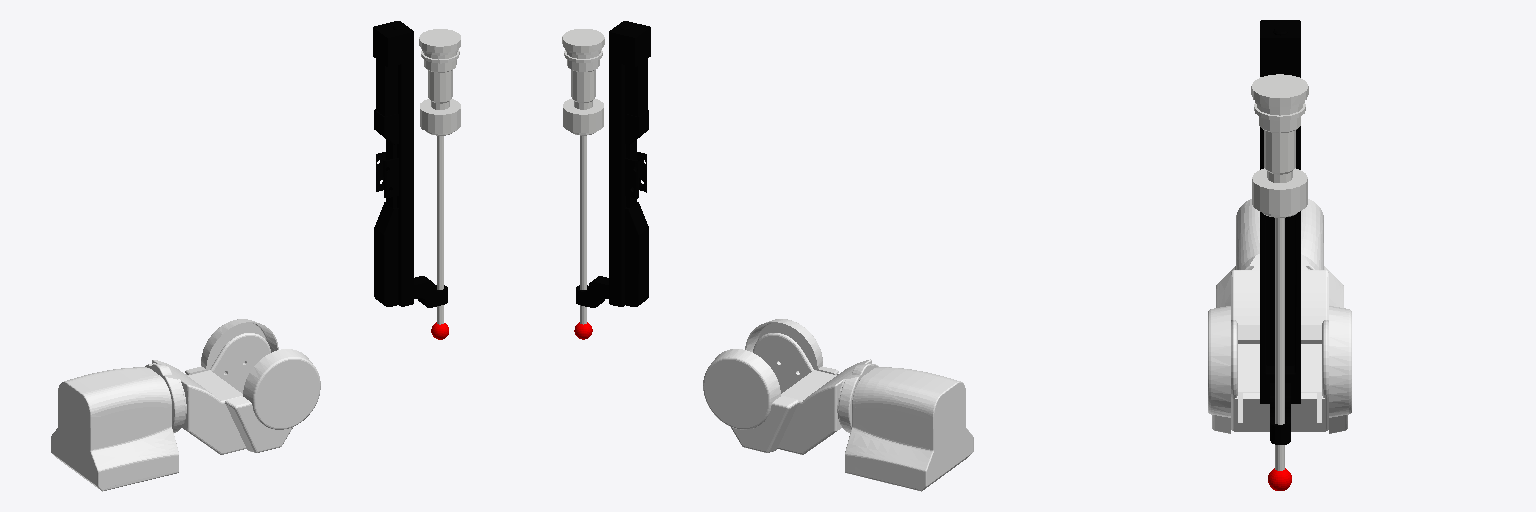
robot.urdf — ecm:
<?xml version="1.0" encoding="utf-8"?>
<!-- =================================================================================== -->
<!-- |    This document was autogenerated by xacro from ecm_launch.urdf.xacro          | -->
<!-- |    EDITING THIS FILE BY HAND IS NOT RECOMMENDED                                 | -->
<!-- =================================================================================== -->
<robot name="ecm">
    <material name="white">
        <color rgba="0.95 0.95 0.95 1"/>
    </material>
    <material name="grey">
        <color rgba="0.80 0.80 0.80 1"/>
    </material>
    <material name="silver">
        <color rgba="0.8941 0.8941 0.8863 1"/>
    </material>
    <material name="black">
        <color rgba="0.0314 0.0314 0.0314 1"/>
    </material>
    <material name="red_translucent">
        <color rgba="1 0 0 0.5"/>
    </material>

    <!--  <link name="world"/>-->

    <link name="ecm_base_link">
        <inertial>
            <origin rpy="0 0 0" xyz="-0.0048 0 0.0670"/>
            <mass value="2.6363"/>
            <inertia ixx="0" ixy="0" ixz="0" iyy="0" iyz="0" izz="0"/>
        </inertial>
        <visual>
            <origin rpy="0 0 0" xyz="0 0 0"/>
            <geometry>
                <mesh filename="meshes/visual/base_link.obj"/>
            </geometry>
            <material name="white"/>
        </visual>
        <!--    <collision>-->
        <!--      <origin rpy="0 0 0" xyz="0 0 0"/>-->
        <!--      <geometry>-->
        <!--        <mesh filename="meshes/collision/base_link.STL"/>-->
        <!--      </geometry>-->
        <!--    </collision>-->
    </link>

    <link name="ecm_yaw_link">
        <inertial>
            <!-- 0.5394-0.1067 -->
            <origin rpy="3.14159265359 0 1.57079632679" xyz="-0.0290 0 0.4327"/>
            <mass value="6.4168"/>
            <inertia ixx="0.00086598" ixy="0" ixz="0" iyy="0.0016561" iyz="-0.00015825" izz="0.00085001"/>
        </inertial>
        <visual>
            <origin rpy="3.14159265359 0 1.57079632679" xyz="0 0 0.5394"/>
            <geometry>
                <mesh filename="meshes/visual/yaw_link.obj"/>
            </geometry>
            <material name="white"/>
        </visual>
        <!--    <collision>-->
        <!--      <origin rpy="3.14159265359 0 1.57079632679" xyz="0 0 0.5394"/>-->
        <!--      <geometry>-->
        <!--        <mesh filename="meshes/collision/yaw_link.STL"/>-->
        <!--      </geometry>-->
        <!--    </collision>-->
    </link>

    <joint name="ecm_yaw_joint" type="revolute">
        <!-- by jqxu -->
        <origin rpy="0 -1.57079632679 0" xyz="0.6126 0 0.1016"/>
        <parent link="ecm_base_link"/>
        <child link="ecm_yaw_link"/>
        <axis xyz="0 0 1"/>
        <limit effort="100" lower="-1.57079632679" upper="1.57079632679" velocity="2.1"/>
    </joint>

    <link name="ecm_pitch_end_link">
        <inertial>
            <!-- 0.1030-0.0181 0.2868+0.0271 -->
            <origin rpy="0 0 3.14159265359" xyz="0.0849 0.3139 0"/>
            <mass value="2.0321"/>
            <inertia ixx="0" ixy="0" ixz="0" iyy="0" iyz="0" izz="0"/>
        </inertial>
        <visual>
            <origin rpy="0 0 3.14159265359" xyz="0.1030 0.2868 0"/>
            <geometry>
                <mesh filename="meshes/visual/pitch_end_link.STL"/>
            </geometry>
            <material name="black"/>
        </visual>
        <collision>
            <origin rpy="0 0 3.14159265359" xyz="0.1030 0.2868 0"/>
            <geometry>
                <mesh filename="meshes/collision/pitch_end_link.STL"/>
            </geometry>
        </collision>
    </link>

    <joint name="ecm_pitch_end_joint" type="revolute">
        <origin rpy="-1.57079632679 -1.57079632679 0" xyz="0 0 0"/>
        <parent link="ecm_yaw_link"/>
        <child link="ecm_pitch_end_link"/>
        <axis xyz="0 0 1"/>
        <limit effort="100" lower="-0.784" upper="1.158" velocity="2.1"/>
    </joint>

    <link name="ecm_main_insertion_link">
        <inertial>
            <!-- 0.0610-0.0086 0  0.0092-0.0479 -->
            <origin rpy="0 0 3.14159265359" xyz="0.0524 0 -0.0387"/>
            <mass value="0.2311"/>
            <inertia ixx="0" ixy="0" ixz="0" iyy="0" iyz="0" izz="0"/>
        </inertial>
        <visual>
            <origin rpy="0 0 3.14159265359" xyz="0.0610 0 0.0092"/>
            <geometry>
                <mesh filename="meshes/visual/main_insertion_link.STL"/>
            </geometry>
            <material name="black"/>
        </visual>
        <collision>
            <origin rpy="0 0 3.14159265359" xyz="0.0610 0 0.0092"/>
            <geometry>
                <mesh filename="meshes/collision/main_insertion_link.STL"/>
            </geometry>
        </collision>
    </link>

    <joint name="ecm_main_insertion_joint" type="prismatic">
        <origin rpy="1.57079632679 0 0" xyz="0 0.3822 0"/>
        <parent link="ecm_pitch_end_link"/>
        <child link="ecm_main_insertion_link"/>
        <axis xyz="0 0 1"/>
        <limit effort="50" lower="0" upper="0.254" velocity="10"/>
    </joint>

    <link name="ecm_tool_link">
        <inertial>
            <!-- -0.3737-0.1073 -->
            <origin rpy="0 0 3.14159265359" xyz="0 0 -0.4810"/>
            <mass value="1.9074"/>
            <inertia ixx="0" ixy="0" ixz="0" iyy="0" iyz="0" izz="0"/>
        </inertial>
        <visual>
            <origin rpy="0 0 3.14159265359" xyz="0 0 -0.3737"/>
            <geometry>
                <mesh filename="meshes/visual/tool_link_1.obj"/>
            </geometry>
            <material name="silver"/>
        </visual>
        <collision>
            <origin rpy="0 0 3.14159265359" xyz="0 0 -0.3737"/>
            <geometry>
                <mesh filename="meshes/collision/tool_link.STL"/>
            </geometry>
        </collision>
    </link>

    <joint name="ecm_tool_joint" type="revolute">
        <origin rpy="0 0 0" xyz="0 0 0.3829"/>
        <parent link="ecm_main_insertion_link"/>
        <child link="ecm_tool_link"/>
        <axis xyz="0 0 1"/>
        <limit effort="100" lower="-1.57079632679" upper="1.57079632679" velocity="2.1"/>
    </joint>

    <link name="ecm_end_link">
        <inertial>
            <origin rpy="0 0 0" xyz="0 0 0"/>
            <mass value="0"/>
            <inertia ixx="0" ixy="0" ixz="0" iyy="0" iyz="0" izz="0"/>
        </inertial>
    </link>

    <joint name="ecm_end_joint" type="fixed">
        <origin rpy="0 0 0" xyz="0 0 0"/>
        <parent link="ecm_tool_link"/>
        <child link="ecm_end_link"/>
        <axis xyz="0 0 0"/>
    </joint>

    <link name="ecm_tip_link">
        <inertial>
            <origin rpy="0 0 0" xyz="0 0 0"/>
            <mass value="0"/>
            <inertia ixx="0" ixy="0" ixz="0" iyy="0" iyz="0" izz="0"/>
        </inertial>
    </link>

    <joint name="ecm_tip_joint" type="fixed">
        <origin rpy="0 0 -1.57079632679" xyz="0 0 0.02"/>
        <parent link="ecm_tool_link"/>
        <child link="ecm_tip_link"/>
        <axis xyz="0 0 0"/>
    </joint>

    <link name="ecm_pitch_front_link">
        <inertial>
            <origin rpy="0 0 3.14159265359" xyz="0.0306 0.1358 0"/>
            <mass value="1.6069"/>
            <inertia ixx="0" ixy="0" ixz="0" iyy="0" iyz="0" izz="0"/>
        </inertial>
        <visual>
            <origin rpy="0 0 3.14159265359" xyz="0 0 0"/>
            <geometry>
                <mesh filename="meshes/visual/pitch_front_link.STL"/>
            </geometry>
            <material name="black"/>
        </visual>
        <!--    <collision>-->
        <!--      <origin rpy="0 0 3.14159265359" xyz="0 0 0"/>-->
        <!--      <geometry>-->
        <!--        <mesh filename="meshes/collision/pitch_front_link.STL"/>-->
        <!--      </geometry>-->
        <!--    </collision>-->
    </link>

    <joint name="ecm_pitch_front_joint" type="revolute">
        <origin rpy="-1.57079632679 -1.57079632679 0" xyz="0 0 0.3404"/>
        <parent link="ecm_yaw_link"/>
        <child link="ecm_pitch_front_link"/>
        <axis xyz="0 0 1"/>
        <limit effort="100" lower="-0.784" upper="1.158" velocity="2.1"/>
        <mimic joint="ecm_pitch_end_joint" multiplier="1"/>
    </joint>

    <link name="ecm_pitch_bottom_link">
        <inertial>
            <origin rpy="0 0 3.14159265359" xyz="-0.1459 0.0267 0"/>
            <mass value="0.3593"/>
            <inertia ixx="0.00023901" ixy="0.00022767" ixz="0" iyy="0.0030096" iyz="0" izz="0.0029617"/>
        </inertial>
        <visual>
            <origin rpy="0 0 3.14159265359" xyz="0 0 0"/>
            <geometry>
                <mesh filename="meshes/visual/pitch_bottom_link.STL"/>
            </geometry>
            <material name="black"/>
        </visual>
        <!--    <collision>-->
        <!--      <origin rpy="0 0 3.14159265359" xyz="0 0 0"/>-->
        <!--      <geometry>-->
        <!--        <mesh filename="meshes/collision/pitch_bottom_link.STL"/>-->
        <!--      </geometry>-->
        <!--    </collision>-->
    </link>

    <joint name="ecm_pitch_bottom_joint" type="revolute">
        <origin rpy="0 0 0" xyz="0.1030 0.2868 0"/>
        <parent link="ecm_pitch_front_link"/>
        <child link="ecm_pitch_bottom_link"/>
        <axis xyz="0 0 1"/>
        <limit effort="100" lower="-1.158" upper="0.784" velocity="2.1"/>
        <mimic joint="ecm_pitch_end_joint" multiplier="-1"/>
    </joint>

    <link name="ecm_pitch_top_link">
        <inertial>
            <origin rpy="0 0 3.14159265359" xyz="-0.1702 0 0"/>
            <mass value="0.4385"/>
            <inertia ixx="0" ixy="0" ixz="0" iyy="0" iyz="0" izz="0"/>
        </inertial>
        <visual>
            <origin rpy="0 0 3.14159265359" xyz="0 0 0"/>
            <geometry>
                <mesh filename="meshes/visual/pitch_top_link.STL"/>
            </geometry>
            <material name="black"/>
        </visual>
        <!--    <collision>-->
        <!--      <origin rpy="0 0 3.14159265359" xyz="0 0 0"/>-->
        <!--      <geometry>-->
        <!--        <mesh filename="meshes/collision/pitch_top_link.STL"/>-->
        <!--      </geometry>-->
        <!--    </collision>-->
    </link>

    <joint name="ecm_pitch_top_joint" type="revolute">
        <origin rpy="0 0 0" xyz="0.1085 0.3242 0"/>
        <parent link="ecm_pitch_front_link"/>
        <child link="ecm_pitch_top_link"/>
        <axis xyz="0 0 1"/>
        <limit effort="100" lower="-1.158" upper="0.784" velocity="2.1"/>
        <mimic joint="ecm_pitch_end_joint" multiplier="-1"/>
    </joint>

    <link name="ecm_pitch_back_link">
        <inertial>
            <origin rpy="0 0 3.14159265359" xyz="0.0329 0.1500 0"/>
            <mass value="0.4214"/>
            <inertia ixx="0" ixy="0" ixz="0" iyy="0" iyz="0" izz="0"/>
        </inertial>
        <visual>
            <origin rpy="0 0 3.14159265359" xyz="0 0 0"/>
            <geometry>
                <mesh filename="meshes/visual/pitch_back_link.STL"/>
            </geometry>
            <material name="black"/>
        </visual>
        <!--    <collision>-->
        <!--      <origin rpy="0 0 3.14159265359" xyz="0 0 0"/>-->
        <!--      <geometry>-->
        <!--        <mesh filename="meshes/collision/pitch_back_link.STL"/>-->
        <!--      </geometry>-->
        <!--    </collision>-->
    </link>

    <joint name="ecm_pitch_back_joint" type="revolute">
        <origin rpy="-1.57079632679 -1.57079632679 0" xyz="-0.0098 0 0.3770"/>
        <parent link="ecm_yaw_link"/>
        <child link="ecm_pitch_back_link"/>
        <axis xyz="0 0 1"/>
        <limit effort="100" lower="-0.784" upper="1.158" velocity="2.1"/>
        <mimic joint="ecm_pitch_end_joint" multiplier="1"/>
    </joint>

    <link name="ecm_remote_center_link">
        <inertial>
            <origin rpy="0 0 0" xyz="0 0 0"/>
            <mass value="0."/>
            <inertia ixx="0" ixy="0" ixz="0" iyy="0" iyz="0" izz="0"/>
        </inertial>
        <visual>
            <origin rpy="0 0 0" xyz="0 0 0"/>
            <geometry>
                <sphere radius="0.015"/>
            </geometry>
            <material name="red_translucent"/>
        </visual>
    </link>

    <joint name="ecm_remote_center_joint" type="fixed">
        <origin rpy="0 0 -1.57079632679" xyz="0.6126 0 0.1016"/>
        <parent link="ecm_base_link"/>
        <child link="ecm_remote_center_link"/>
        <axis xyz="0 0 0"/>
    </joint>
</robot>

--- What the picture shows (computed from the rendered views, not written in the file) ---
Views: 3 orthographic renders of the robot side by side, from view 1: azimuth 30°, elevation 25°; view 2: azimuth 150°, elevation 25°; view 3: azimuth 270°, elevation 25°.
Robot: ecm — 12 links, 11 joints (7 revolute, 1 prismatic, 3 fixed); root link ecm_base_link; default pose: all joints at 0.
Links seen in each view (by area): view 1: ecm_yaw_link, ecm_base_link, ecm_pitch_end_link, ecm_tool_link; view 2: ecm_yaw_link, ecm_base_link, ecm_pitch_end_link, ecm_tool_link; view 3: ecm_yaw_link, ecm_pitch_end_link, ecm_tool_link, ecm_base_link.
Link boxes in pixels (<box>): ecm_yaw_link: <box>145,319,320,454</box>; ecm_base_link: <box>51,367,178,491</box>; ecm_pitch_end_link: <box>373,21,447,307</box>; ecm_tool_link: <box>419,29,460,324</box>; ecm_yaw_link: <box>703,319,878,454</box>; ecm_base_link: <box>845,367,973,491</box>; ecm_pitch_end_link: <box>576,21,650,307</box>; ecm_tool_link: <box>562,29,604,324</box>; ecm_yaw_link: <box>1208,254,1351,433</box>; ecm_pitch_end_link: <box>1260,20,1300,444</box>; ecm_tool_link: <box>1251,74,1308,470</box>; ecm_base_link: <box>1216,199,1343,307</box>.
Bounding box of the posed robot: 0.73 × 0.176 × 0.6719 m (x, y, z).
4 mesh visuals loaded from 9 distinct referenced files (1 binary STL, 3 OBJ); not drawn: 5 (reference not matched to a file when rendering).